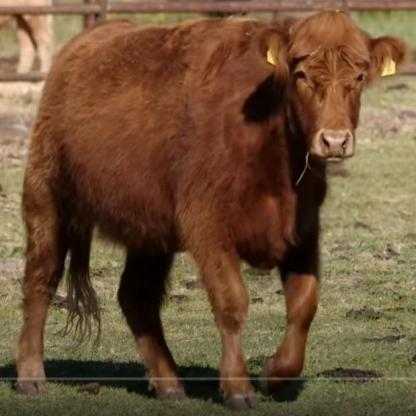cow: (15, 7, 406, 413)
